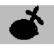not correct: (8, 5, 44, 41)
